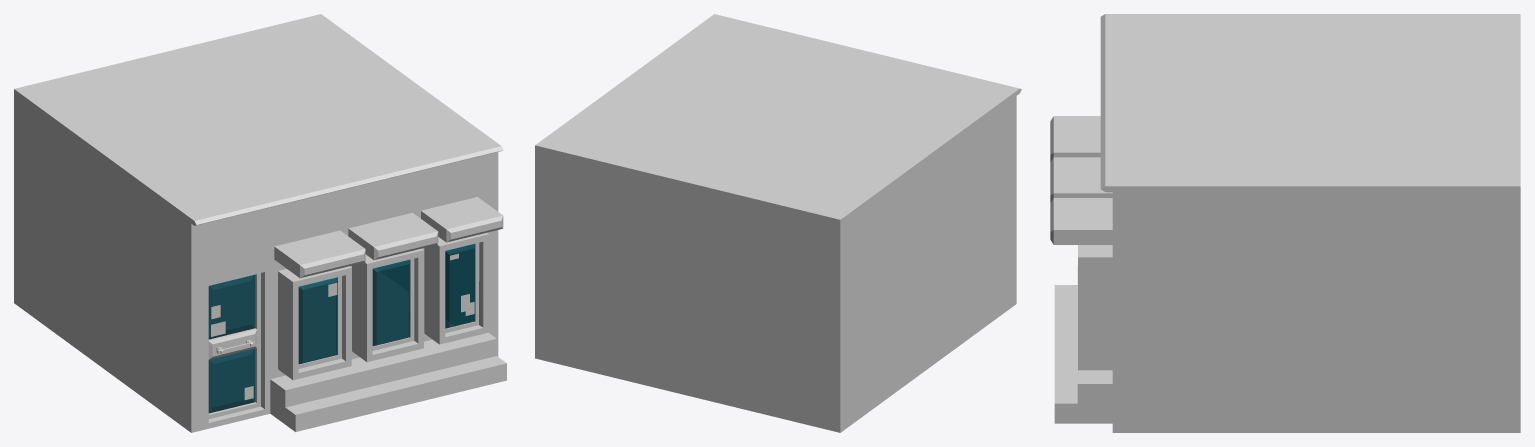
File: building_shop_04.fbx
3 views of the same model, side by side, from view 1: azimuth 30°, elevation 25°; view 2: azimuth 150°, elevation 25°; view 3: azimuth 270°, elevation 25° (orthographic). The views are drawn at different scales.
Visible parts, largest first — view 1: building_shop_04, building_shop_04_glass; view 2: building_shop_04; view 3: building_shop_04.
Boxes of the visible parts, x1,y1,x2,y2 form: building_shop_04: (14,14,506,432); building_shop_04_glass: (208,244,474,413); building_shop_04: (535,14,1021,432); building_shop_04: (1050,14,1520,432).
Bounding box in the file's own units: 600 × 400 × 691.
